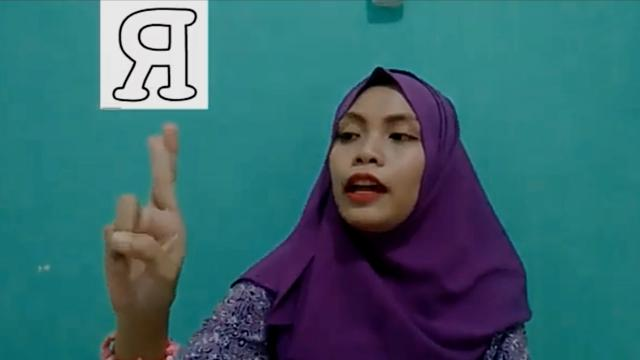R: (98, 118, 190, 312)
